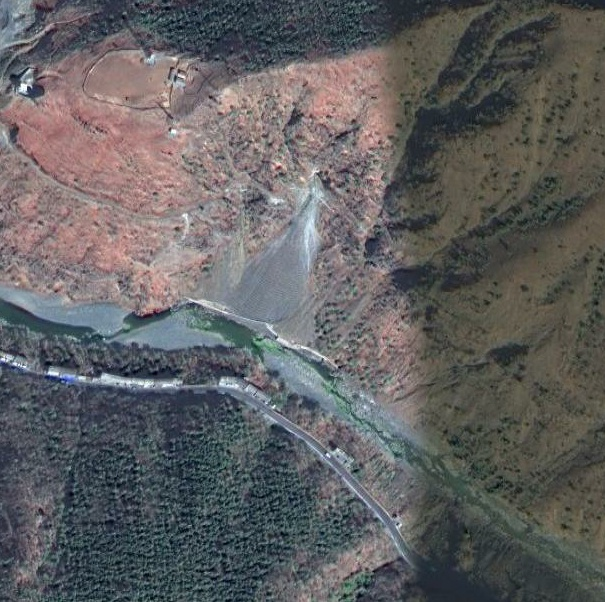slope: (184, 172, 326, 322)
